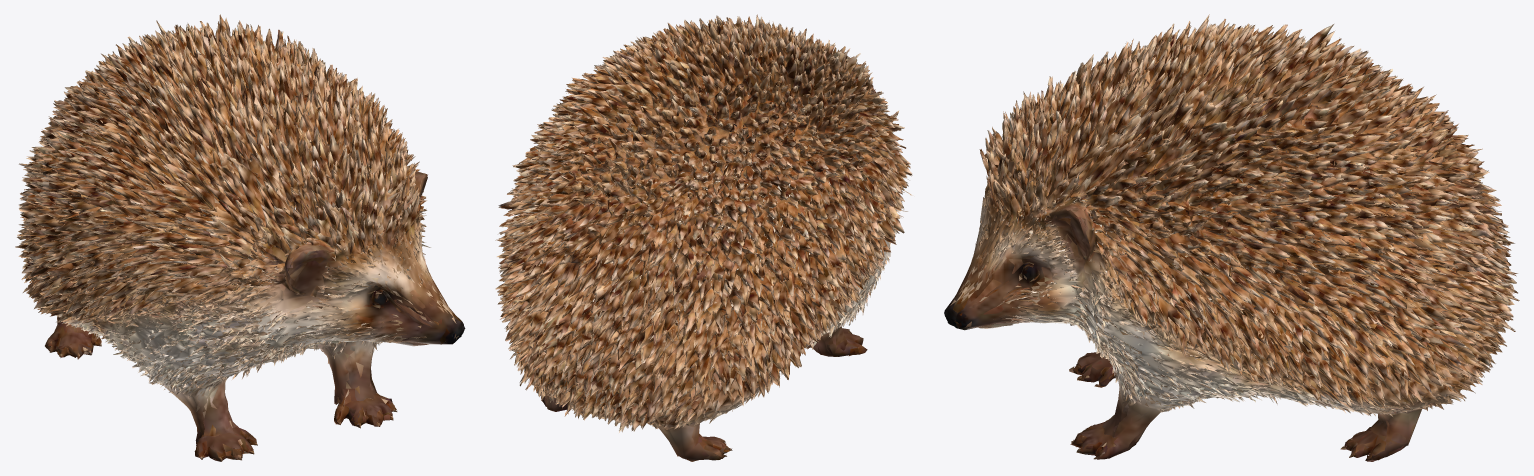
Rendered from hedgehog.glb.
The picture shows the model from 3 angles, left to right: view 1: azimuth 30°, elevation 25°; view 2: azimuth 150°, elevation 25°; view 3: azimuth 270°, elevation 25°; orthographic projection. The views are drawn at different scales.
Parts seen in each view (by area): view 1: hedgehog; view 2: hedgehog; view 3: hedgehog.
Boxes of the visible parts, x1,y1,x2,y2 form: hedgehog: (15,14,465,461); hedgehog: (495,14,912,461); hedgehog: (944,14,1519,461).
Bounding box in the file's own units: 0.1534 × 0.1541 × 0.2191.
1 material, 1 textured.
